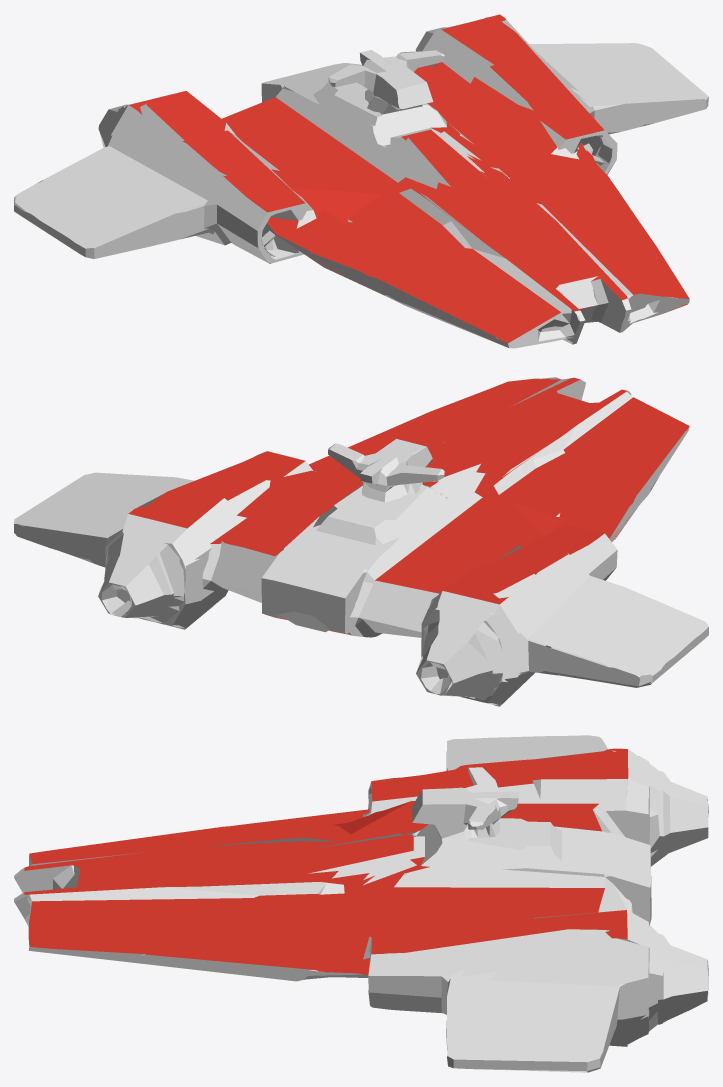
The model's file is interceptor_t3.glb.
3 views of the same model, one above another, from view 1: azimuth 30°, elevation 25°; view 2: azimuth 150°, elevation 25°; view 3: azimuth 270°, elevation 25° (orthographic). The views are drawn at different scales.
Parts seen in each view (by area): view 1: Spaceship; view 2: Spaceship; view 3: Spaceship.
Boxes of the visible parts, bbox=[...] form: Spaceship: bbox=[14, 14, 708, 348]; Spaceship: bbox=[14, 377, 708, 706]; Spaceship: bbox=[14, 735, 708, 1072].
Size of the model in its own units: 66.3 by 14.89 by 59.47.
